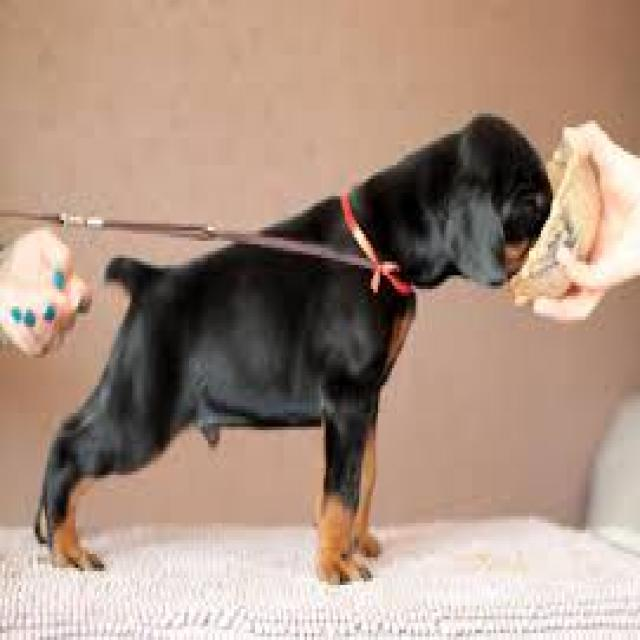Dog: (32, 110, 558, 590)
